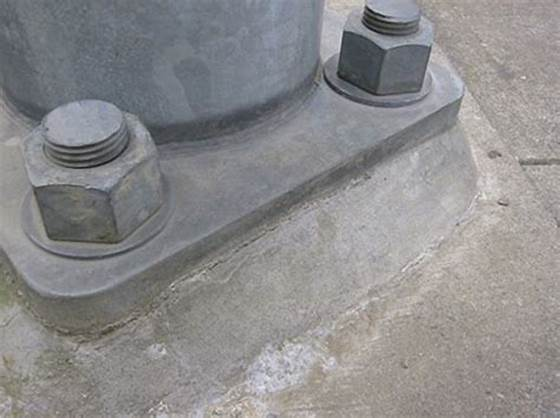bolt_b: (18, 104, 165, 246), (335, 5, 434, 96)
